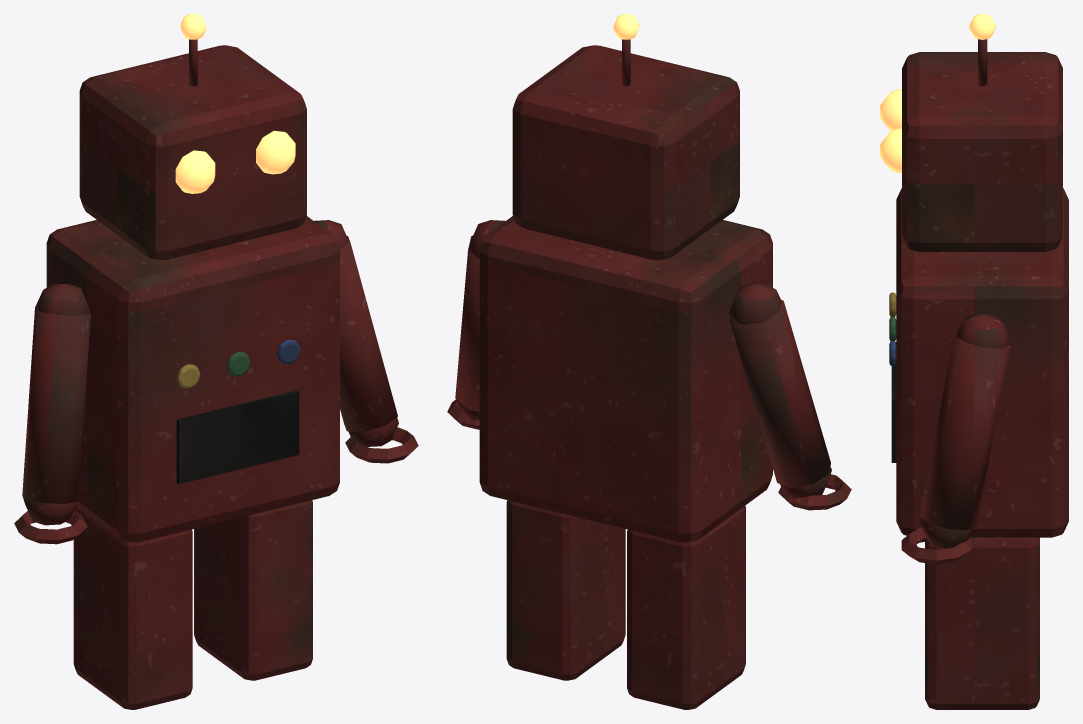
Rendered from TY01_large_retro_toy_robot_v2.glb.
3 views of the same model, side by side, from view 1: azimuth 30°, elevation 25°; view 2: azimuth 150°, elevation 25°; view 3: azimuth 270°, elevation 25° (orthographic).
Visible parts, largest first — view 1: TY01_large_retro_toy_robot_v2; view 2: TY01_large_retro_toy_robot_v2; view 3: TY01_large_retro_toy_robot_v2.
Part boxes in pixels (left/top/right/bottom): TY01_large_retro_toy_robot_v2: left=14, top=14, right=418, bottom=709; TY01_large_retro_toy_robot_v2: left=447, top=14, right=851, bottom=709; TY01_large_retro_toy_robot_v2: left=880, top=14, right=1068, bottom=709.
Bounding box in the file's own units: 0.377 × 0.6 × 0.157.
6 materials, 5 textured.
